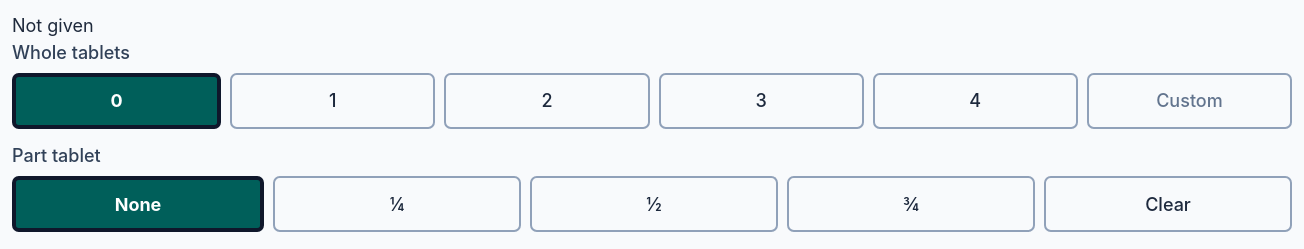
it: DosePicker custom whole-tablets input › strips non-digit characters, accepting whole numbers only
Type "a6b" into the field at [1189, 101], box [1087,73,1292,129]
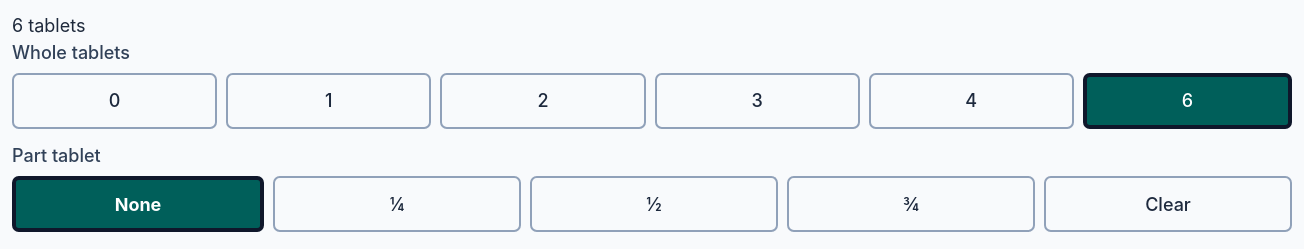
Result: the field holds "6" at [1083,73,1292,129]
Result: the text "6 tablets" is shown at [12,15,85,36]
